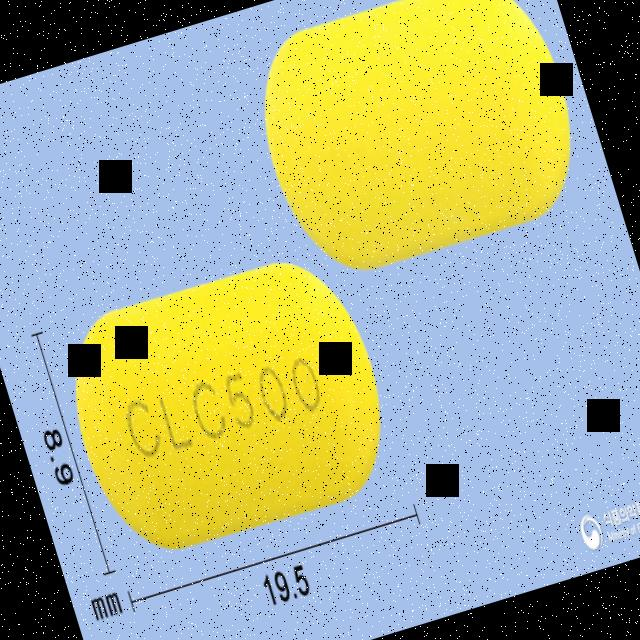Claric: (42, 231, 410, 571)
